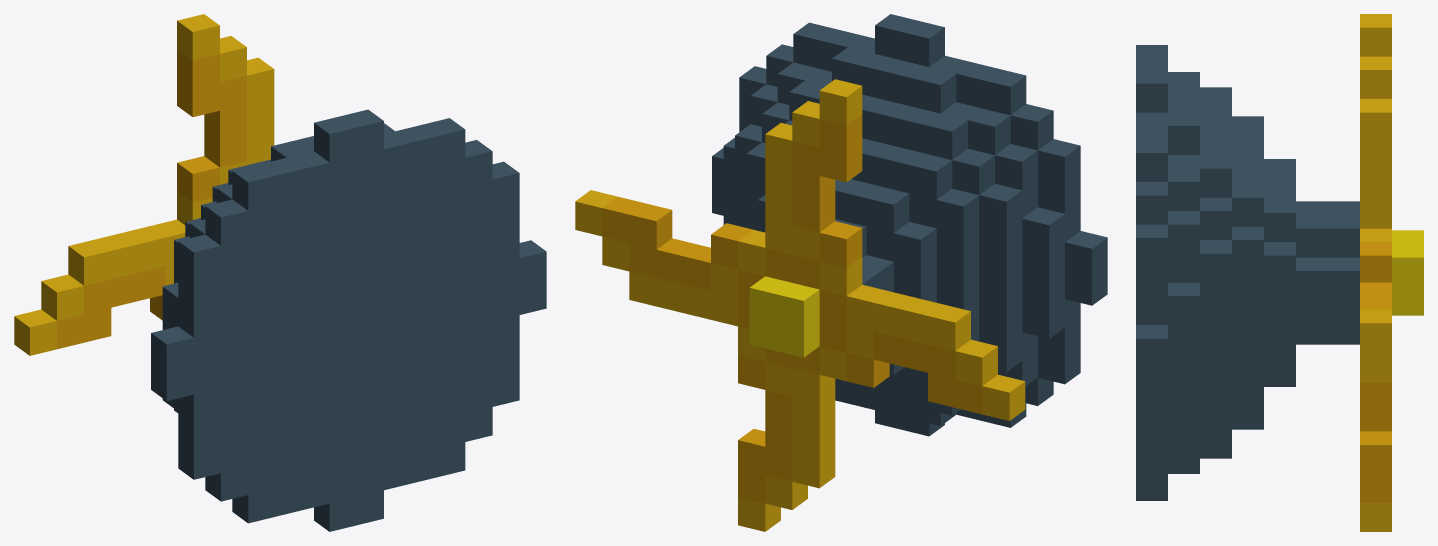
Rendered from wobbler-01.obj.
3 views of the same model, side by side, from view 1: azimuth 30°, elevation 25°; view 2: azimuth 150°, elevation 25°; view 3: azimuth 270°, elevation 25° (orthographic). The views are drawn at different scales.
Bounding box in the file's own units: 16 × 16 × 9.
1 material, 1 textured.
